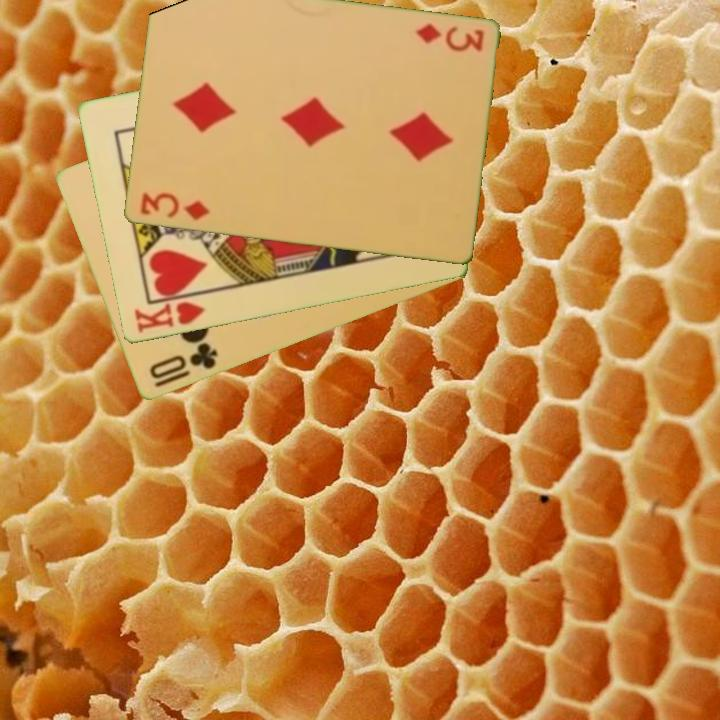10c: (145, 339, 221, 383)
3d: (136, 189, 212, 224), (411, 20, 487, 55)
Kh: (130, 290, 210, 336)
